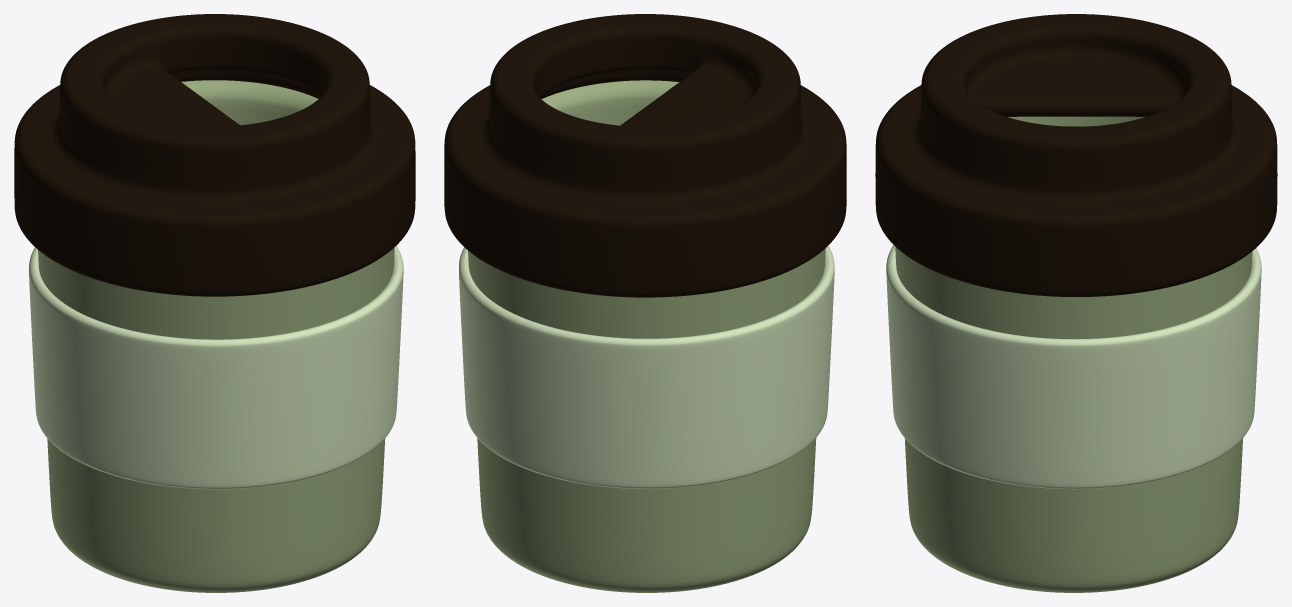
The model's file is MatchCup.fbx.
The picture shows the model from 3 angles, left to right: view 1: azimuth 30°, elevation 25°; view 2: azimuth 150°, elevation 25°; view 3: azimuth 270°, elevation 25°; orthographic projection.
Parts seen in each view (by area): view 1: MatchaCup, MatchaCup-Sleeve, MatchaCup-Body; view 2: MatchaCup, MatchaCup-Sleeve, MatchaCup-Body; view 3: MatchaCup, MatchaCup-Sleeve, MatchaCup-Body.
Boxes of the visible parts, x1,y1,x2,y2 form: MatchaCup: (14,14,415,296); MatchaCup-Sleeve: (29,246,403,489); MatchaCup-Body: (38,80,394,592); MatchaCup: (444,14,846,297); MatchaCup-Sleeve: (459,246,834,488); MatchaCup-Body: (468,80,825,592); MatchaCup: (875,14,1277,296); MatchaCup-Sleeve: (886,245,1261,489); MatchaCup-Body: (895,116,1252,592).
Bounding box in the file's own units: 62.04 × 77.41 × 62.04.
